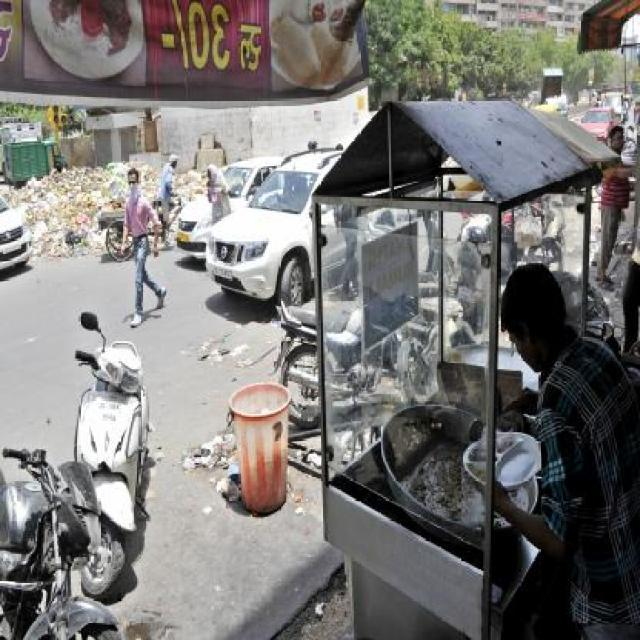garbage: (180, 429, 239, 511), (25, 177, 91, 248), (194, 331, 252, 374), (72, 169, 126, 204)
